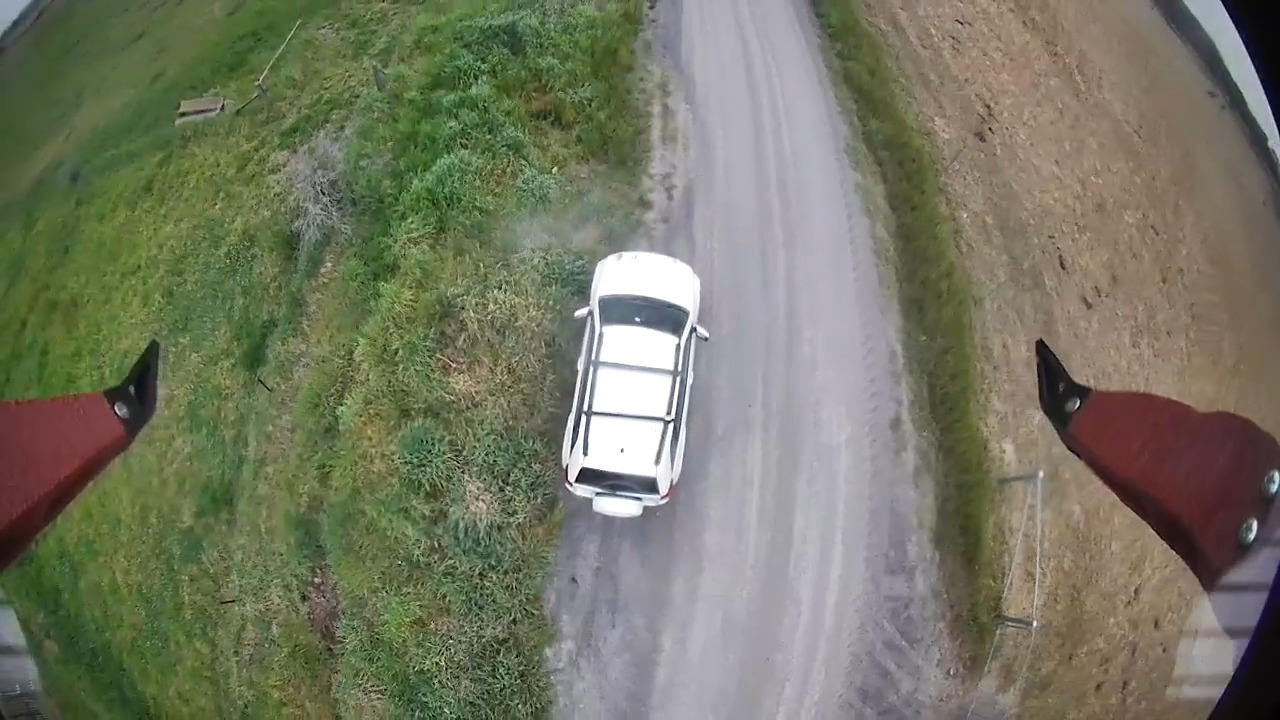Car: (560, 252, 709, 518)
